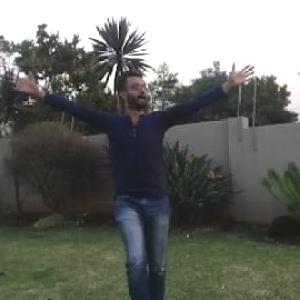takeoff: (1, 50, 256, 299)
